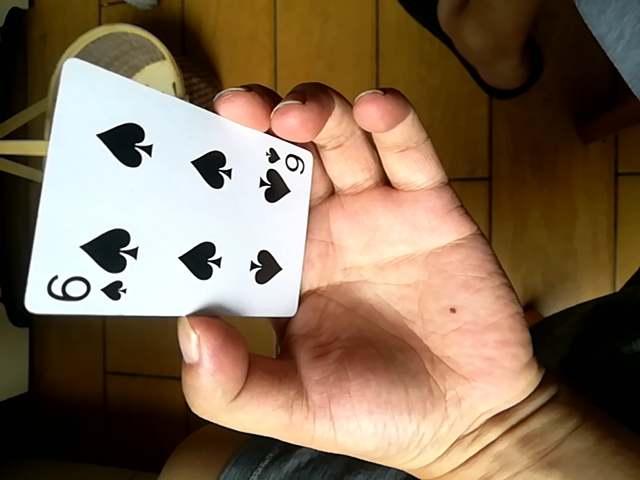ht 6: (25, 53, 318, 325)
